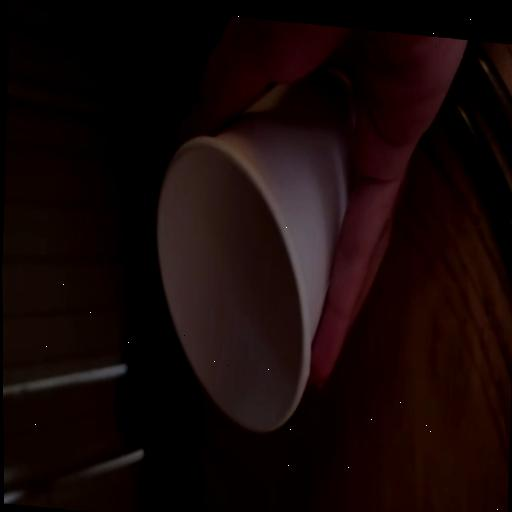Ly_giay: (156, 66, 355, 431)
